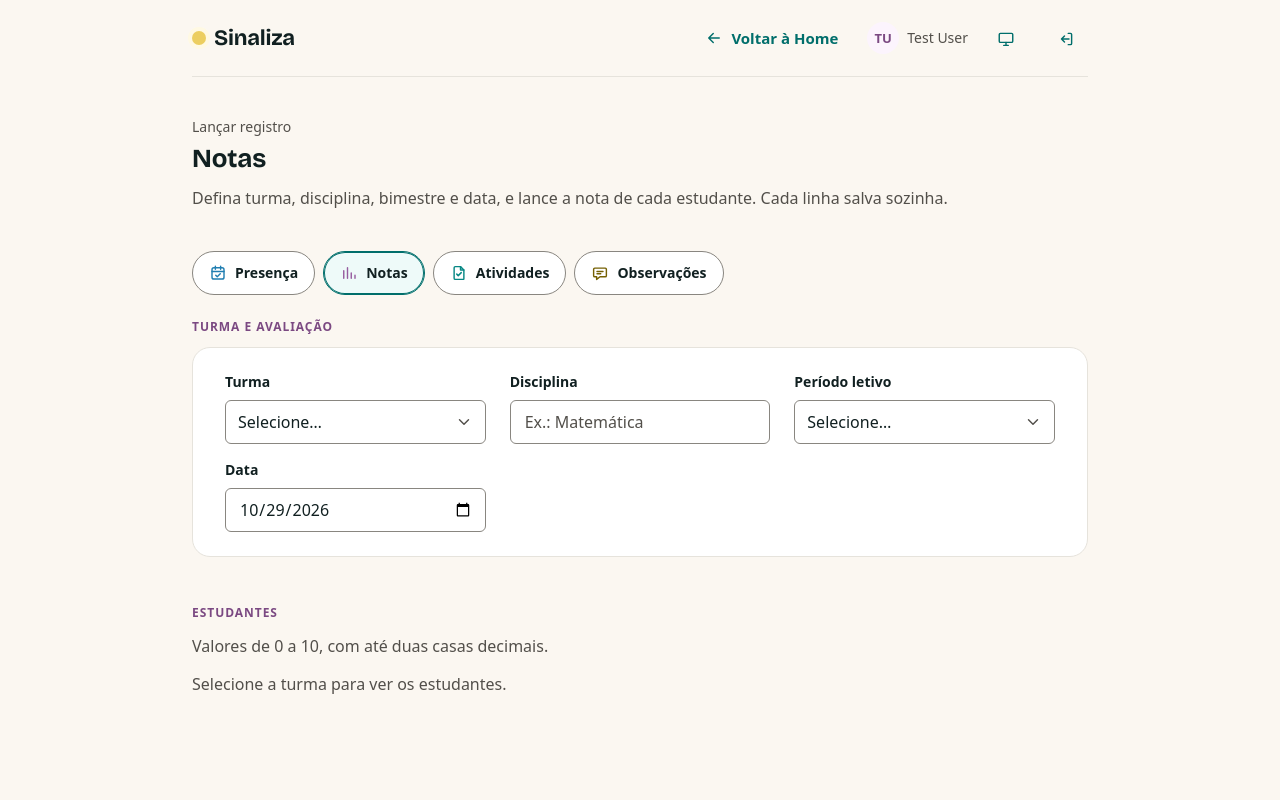
Test: Notas — client-side out-of-range validation (spec I/O Matrix "Out-of-range value (client)") › saves a valid valor: POSTs /grades with the selected context and shows "Registro salvo."
The image size is (1280, 800).
Select "Turma Teste" in the dropdown labelled "Turma" at (355, 422), box [238,402,473,442]
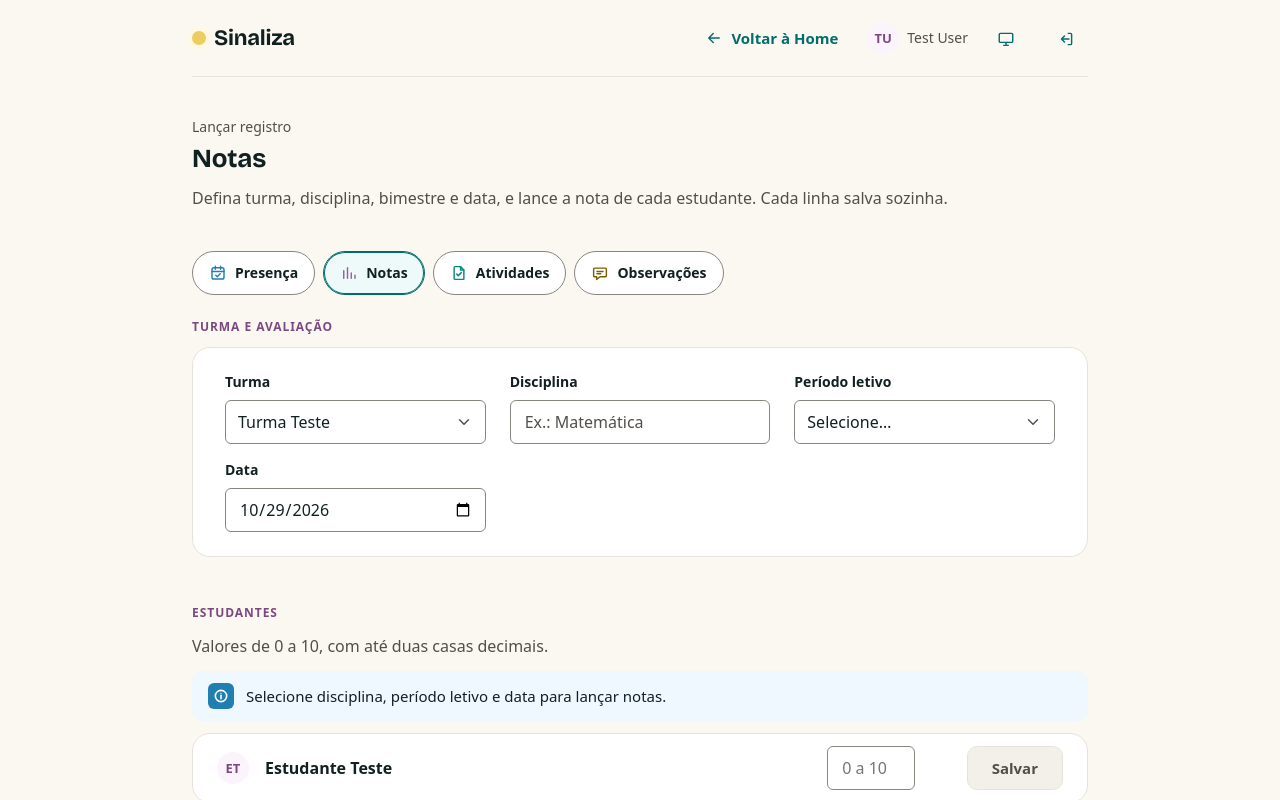
Now the text "Estudante Teste" is shown, box [265,757,392,779]
Type "Matemática" into the field labelled "Disciplina".
click(640, 422); type("Matemática")  # box [523,402,757,442]
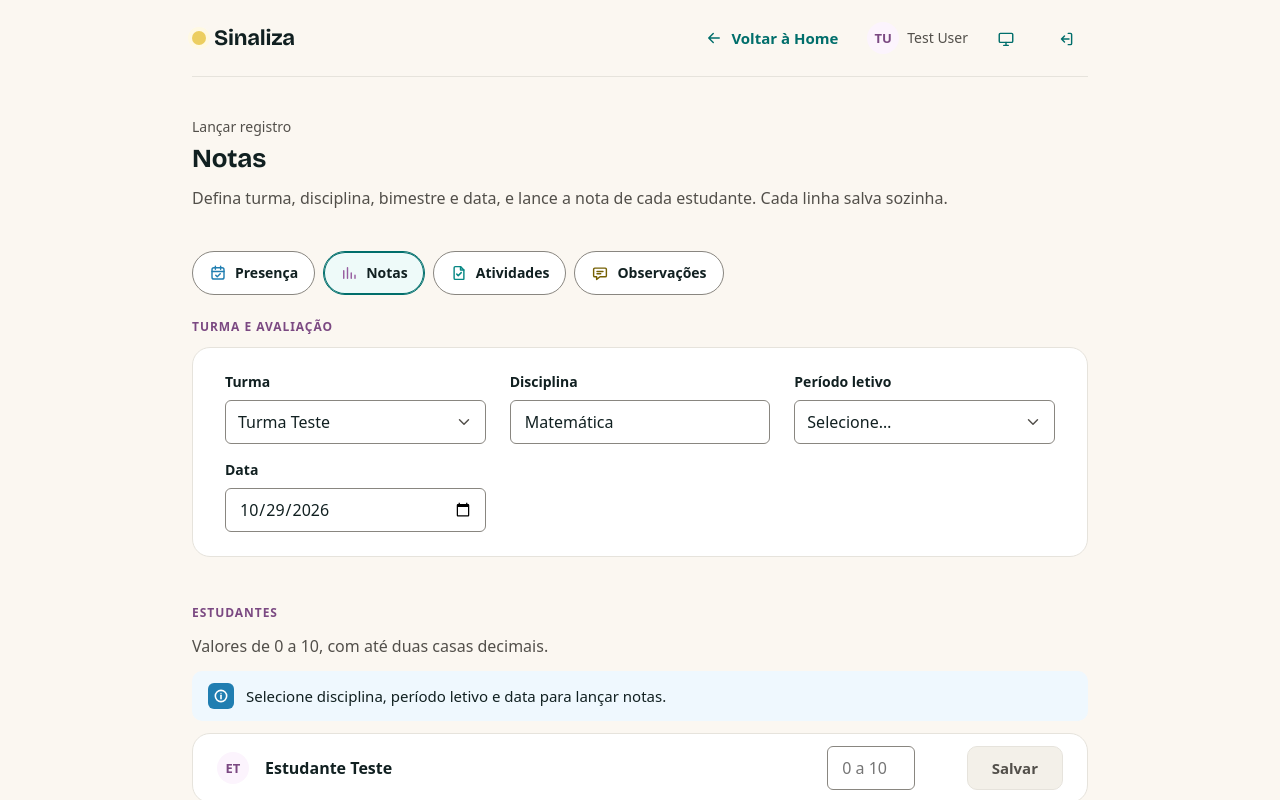
Select "3º Bimestre" in the dropdown labelled "Período letivo" at (925, 422), box [807,402,1042,442]
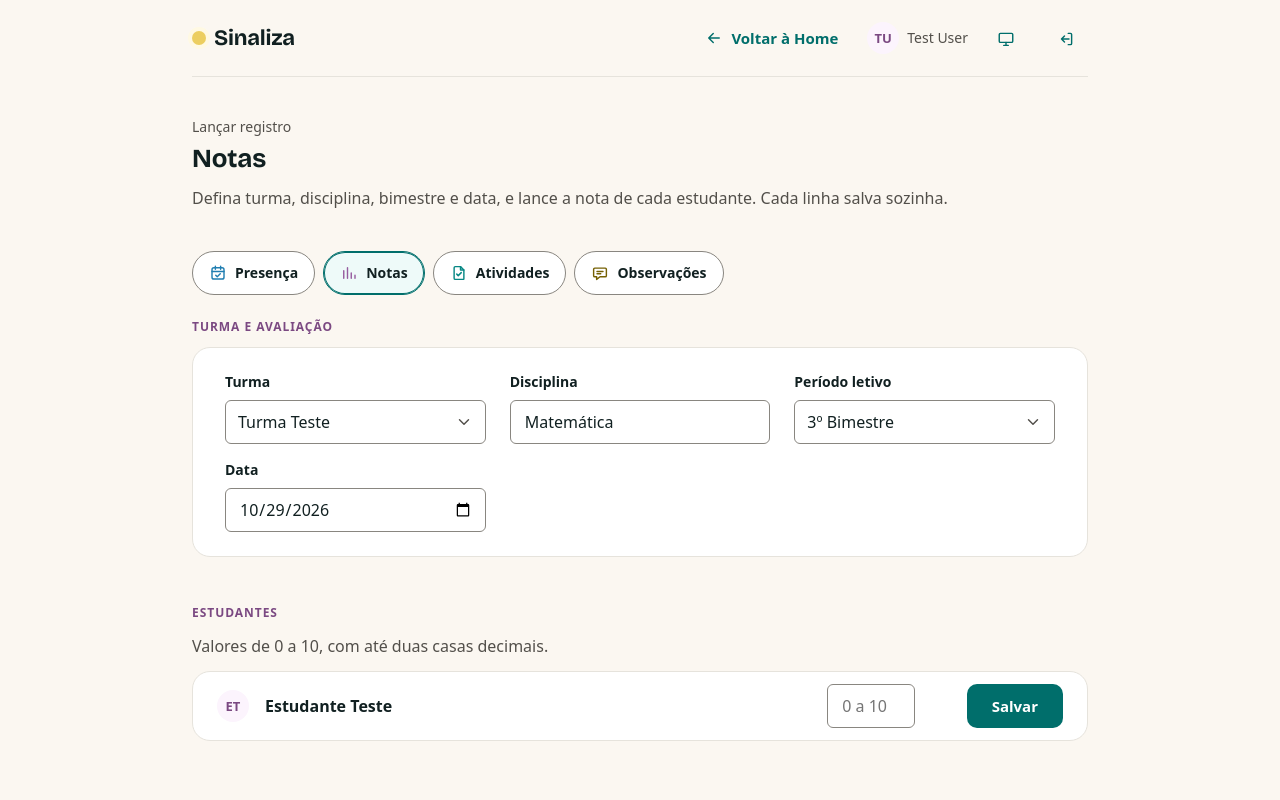
Type "2026-09-24" into the date field labelled "Data".
click(355, 510); type("2026-09-24")  # box [238,490,473,530]
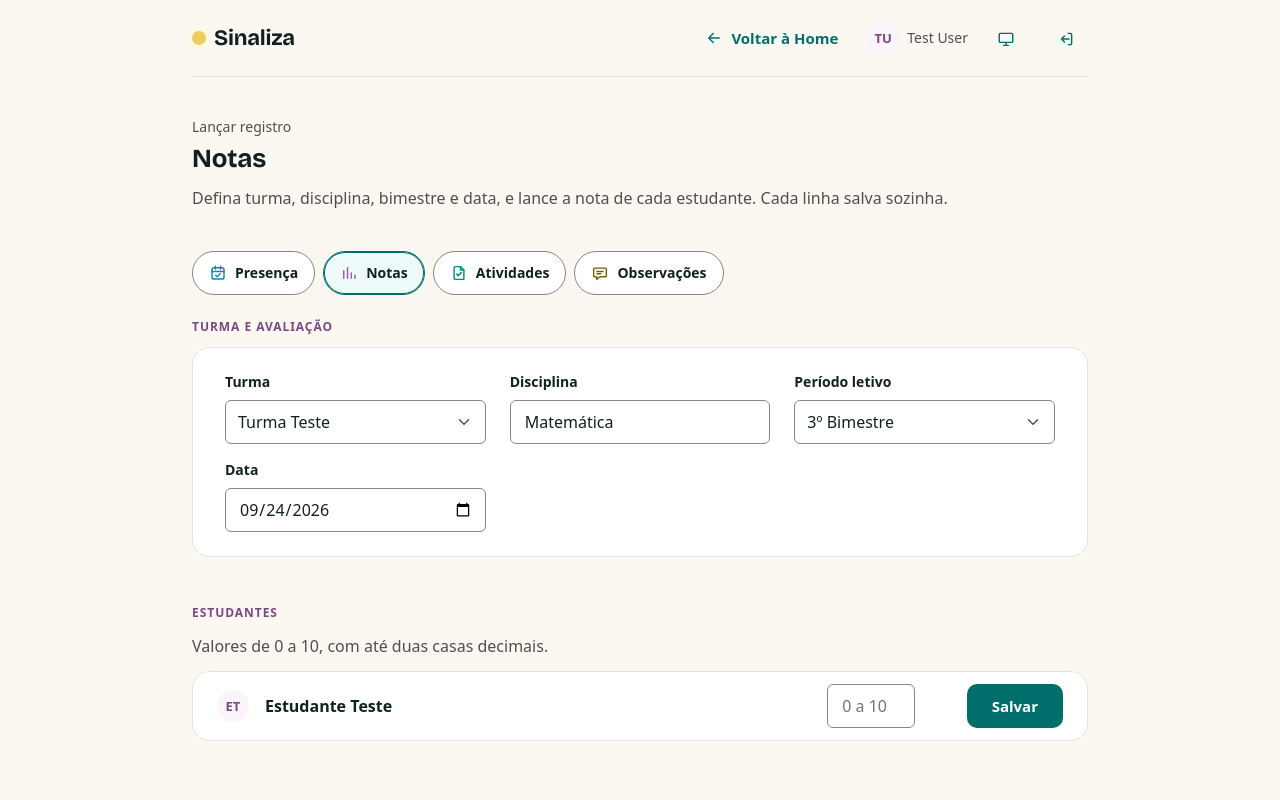
Type "8.5" into the number field named "Nota de".
click(871, 706); type("8.5")  # box [827,684,915,728]
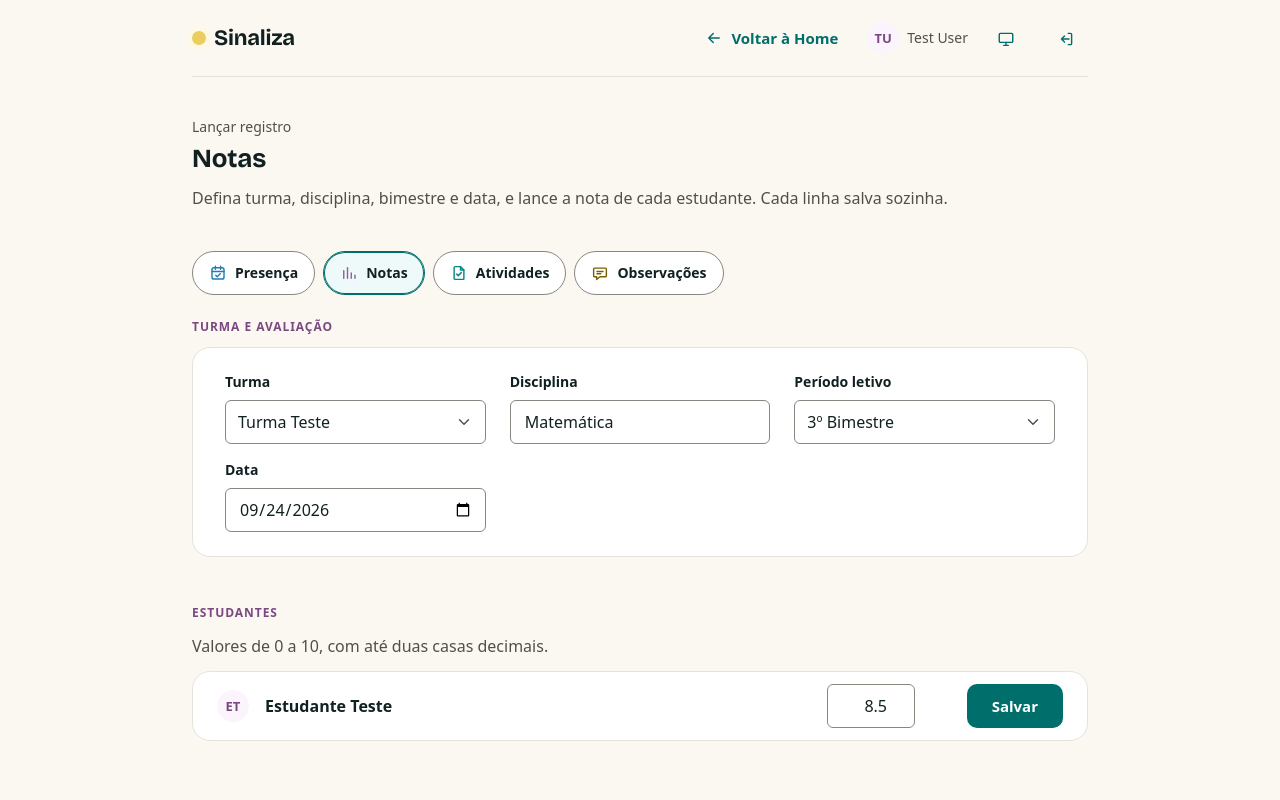
Click the button "Salvar".
click(1015, 706)  # box [967,684,1063,728]
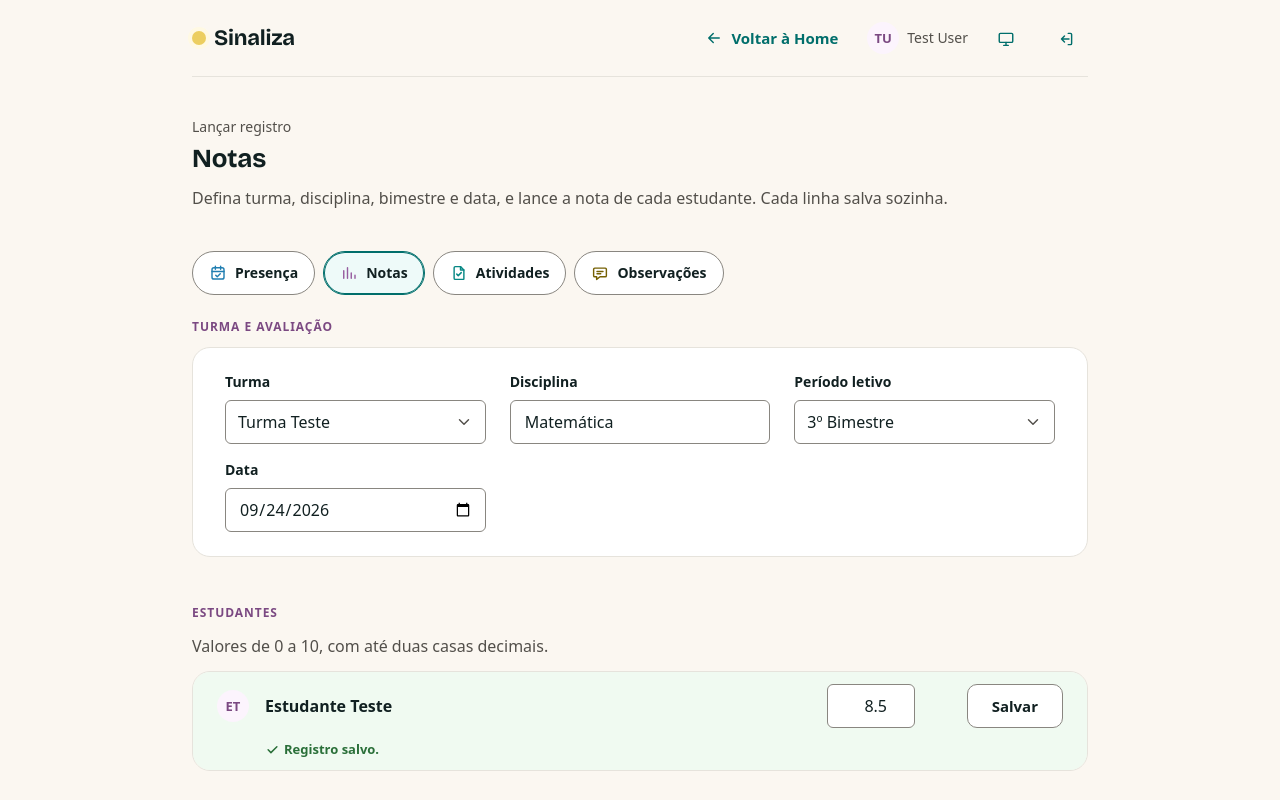
Now the text "Registro salvo." is shown, box [265,740,379,758]
